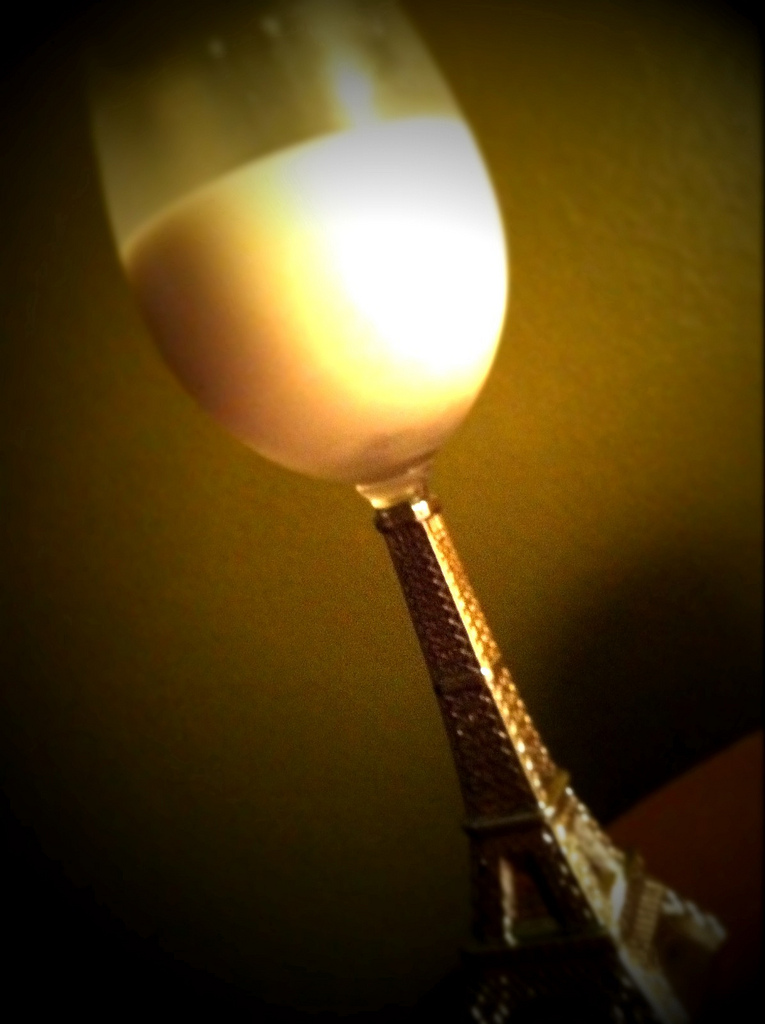glass of milk: (104, 57, 532, 496)
